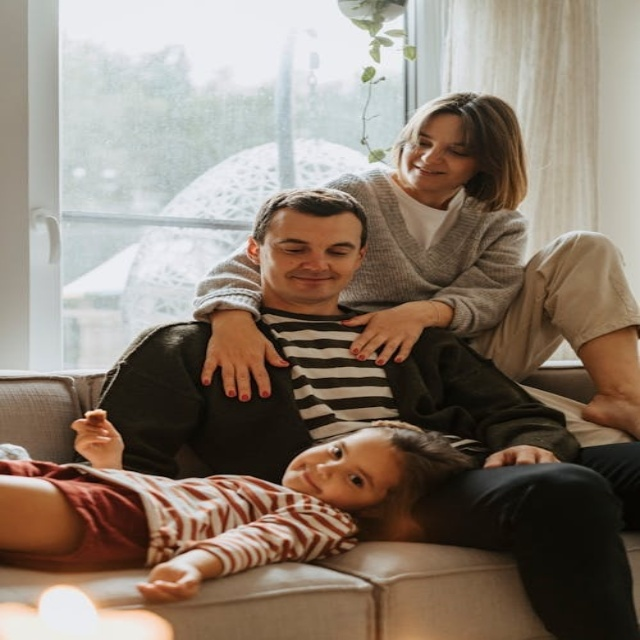Sin_gafas: (323, 435, 375, 498), (270, 233, 361, 262), (415, 127, 474, 158)
Sin_guantes: (344, 299, 434, 361), (64, 406, 133, 458), (136, 555, 211, 599), (480, 437, 567, 471)
Sin_mascara: (271, 270, 348, 293), (404, 159, 457, 183), (296, 460, 325, 497)
